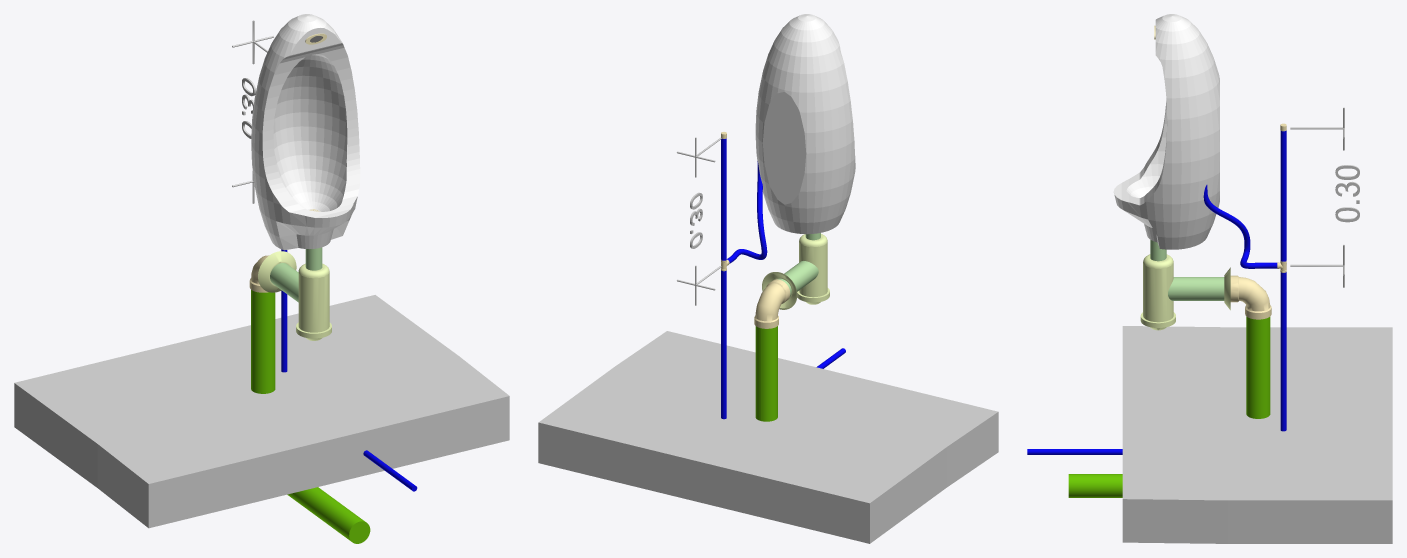
File: orinal.glb
The picture shows the model from 3 angles, left to right: view 1: azimuth 30°, elevation 25°; view 2: azimuth 150°, elevation 25°; view 3: azimuth 270°, elevation 25°; orthographic projection. The views are drawn at different scales.
Visible parts, largest first — view 1: Geom3D (×7); view 2: Geom3D (×9); view 3: Geom3D (×12).
Part boxes in pixels (bbox=[...]): Geom3D (×7): bbox=[14, 14, 509, 543]; Geom3D (×9): bbox=[538, 14, 998, 543]; Geom3D (×12): bbox=[1027, 14, 1392, 543].
Size of the model in its own units: 2.19 by 2.81 by 1.93.
